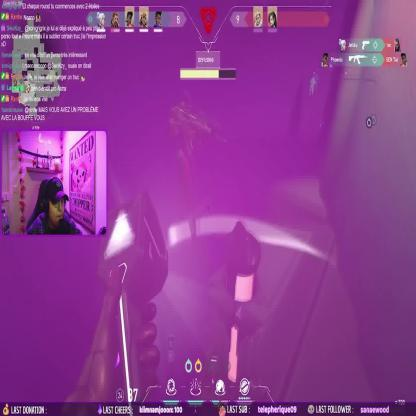enemy: (164, 89, 200, 244)
enemy_head: (182, 92, 194, 114)
